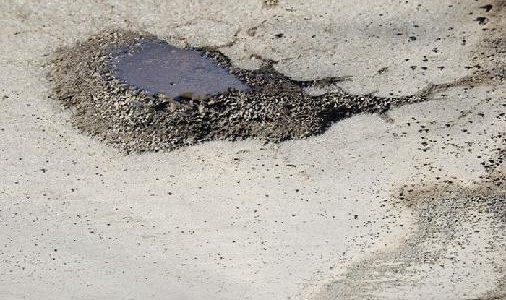pothole: (45, 28, 379, 157)
